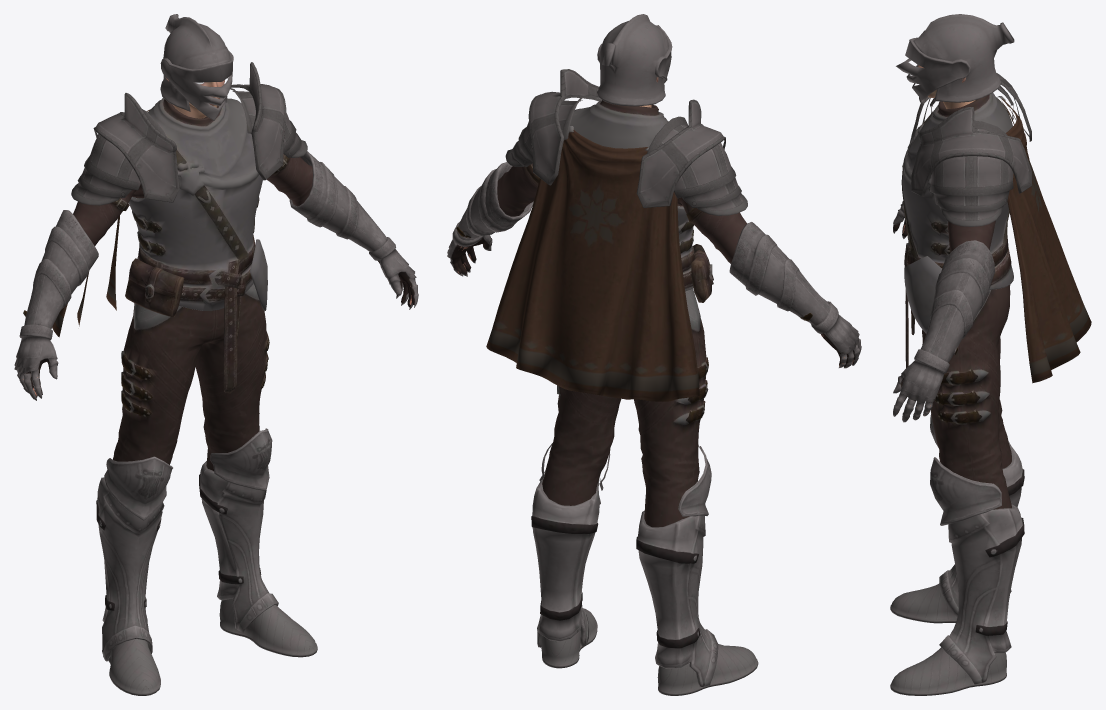
3 views of the same model, side by side, from view 1: azimuth 30°, elevation 25°; view 2: azimuth 150°, elevation 25°; view 3: azimuth 270°, elevation 25° (orthographic). The views are drawn at different scales.
Parts seen in each view (by area): view 1: GM_0106_T04_Body, GM_0106_T04_Boots, GM_0106_T04_Pants, GM_0106_T04_Glove, GM_0106_T04_Shoulder, GM_0106_T04_Helmet, GM_0106_T04_Cape; view 2: GM_0106_T04_Cape, GM_0106_T04_Boots, GM_0106_T04_Pants, GM_0106_T04_Shoulder, GM_0106_T04_Glove, GM_0106_T04_Body, GM_0106_T04_Helmet; view 3: GM_0106_T04_Boots, GM_0106_T04_Pants, GM_0106_T04_Shoulder, GM_0106_T04_Cape, GM_0106_T04_Body, GM_0106_T04_Glove, GM_0106_T04_Helmet.
Part boxes in pixels (box(x1,y1,x2,y2)): GM_0106_T04_Body: box(23, 98, 414, 395); GM_0106_T04_Boots: box(96, 428, 317, 695); GM_0106_T04_Pants: box(113, 283, 269, 471); GM_0106_T04_Glove: box(14, 151, 418, 400); GM_0106_T04_Shoulder: box(71, 62, 307, 205); GM_0106_T04_Helmet: box(160, 14, 233, 120); GM_0106_T04_Cape: box(52, 109, 255, 337); GM_0106_T04_Cape: box(486, 126, 699, 401); GM_0106_T04_Boots: box(531, 443, 758, 695); GM_0106_T04_Pants: box(542, 288, 708, 527); GM_0106_T04_Shoulder: box(505, 69, 747, 215); GM_0106_T04_Glove: box(447, 162, 861, 368); GM_0106_T04_Body: box(457, 100, 853, 366); GM_0106_T04_Helmet: box(597, 14, 672, 106); GM_0106_T04_Boots: box(890, 414, 1024, 695); GM_0106_T04_Pants: box(922, 285, 1011, 509); GM_0106_T04_Shoulder: box(911, 73, 1031, 226); GM_0106_T04_Cape: box(997, 96, 1091, 383); GM_0106_T04_Body: box(895, 93, 1013, 415); GM_0106_T04_Glove: box(893, 201, 994, 422); GM_0106_T04_Helmet: box(896, 14, 1014, 102).
Size of the model in its own units: 1.26 by 1.92 by 0.5511.
Materials: 10 (9 with a texture image).
